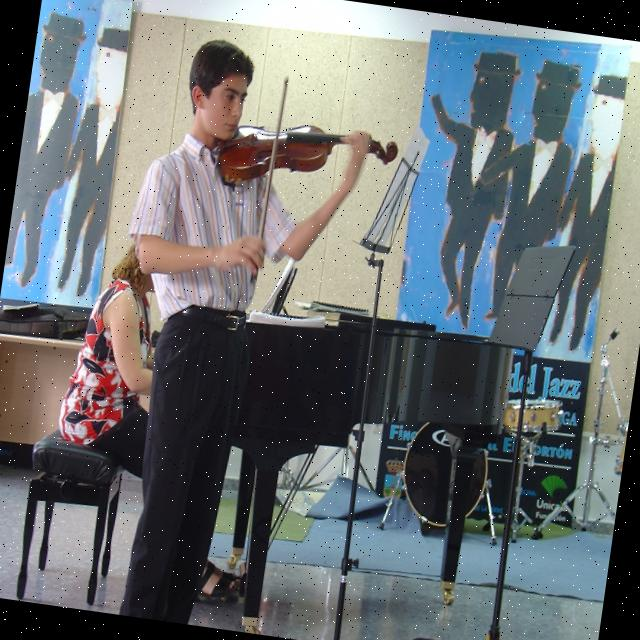drums: (375, 330, 637, 564)
violin: (213, 108, 404, 208)
